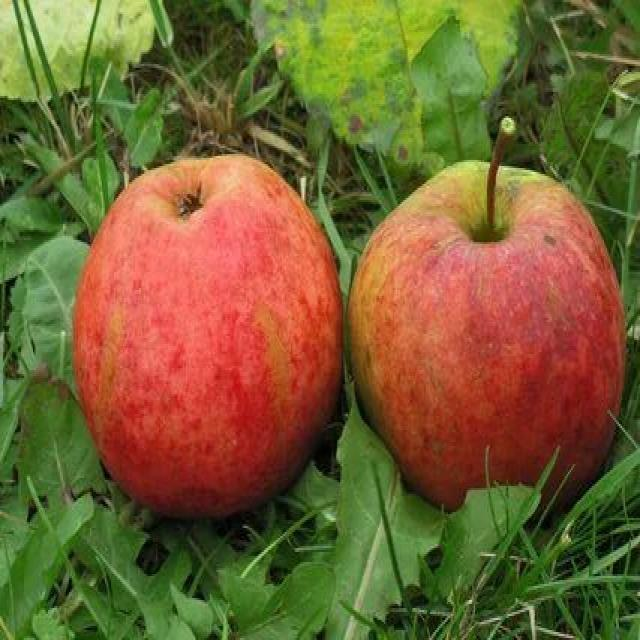Fresh Apple: (68, 153, 347, 522), (345, 152, 627, 513)
